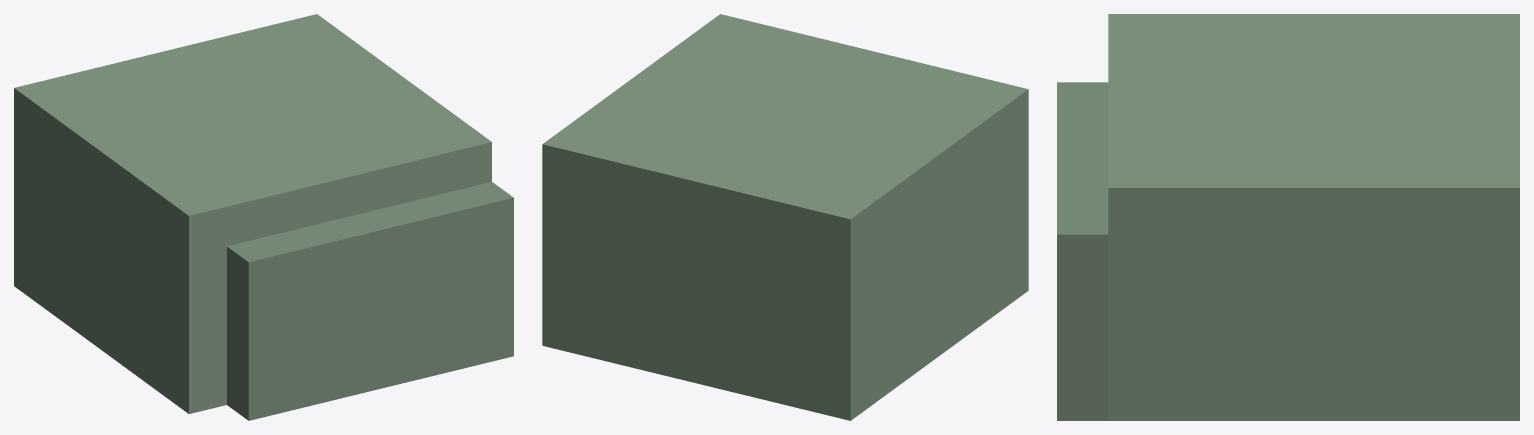
The model's file is roca_musgosa_05.glb.
3 views of the same model, side by side, from view 1: azimuth 30°, elevation 25°; view 2: azimuth 150°, elevation 25°; view 3: azimuth 270°, elevation 25° (orthographic). The views are drawn at different scales.
Visible parts, largest first — view 1: roca_musgosa_05; view 2: roca_musgosa_05; view 3: roca_musgosa_05.
Boxes of the visible parts, x1,y1,x2,y2 form: roca_musgosa_05: [14, 14, 513, 420]; roca_musgosa_05: [542, 14, 1028, 420]; roca_musgosa_05: [1057, 14, 1519, 420].
Bounding box in the file's own units: 0.8 × 0.5 × 0.9.
